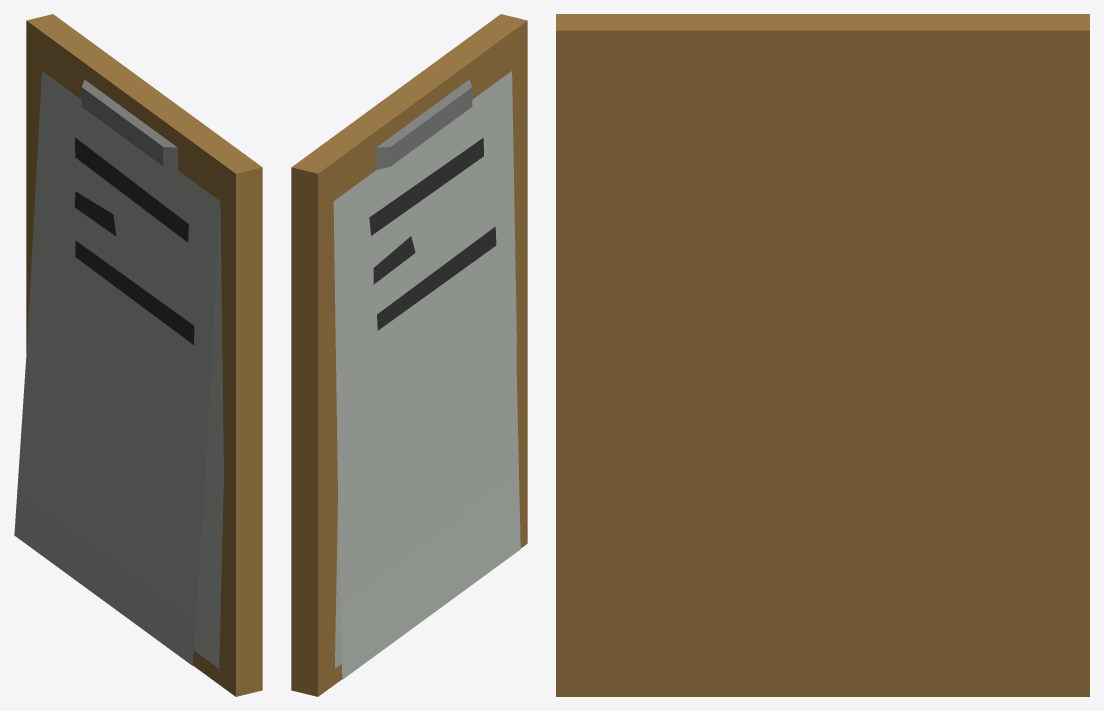
The model's file is Clipboard.fbx.
The picture shows the model from 3 angles, left to right: view 1: azimuth 30°, elevation 25°; view 2: azimuth 150°, elevation 25°; view 3: azimuth 270°, elevation 25°; orthographic projection. The views are drawn at different scales.
Visible parts, largest first — view 1: Clipboard; view 2: Clipboard; view 3: Clipboard.
Boxes of the visible parts, left/top/right/bottom form: Clipboard: left=14, top=14, right=262, bottom=696; Clipboard: left=291, top=14, right=527, bottom=696; Clipboard: left=556, top=14, right=1089, bottom=696.
Size of the model in its own units: 2.94 by 32.79 by 23.8.
